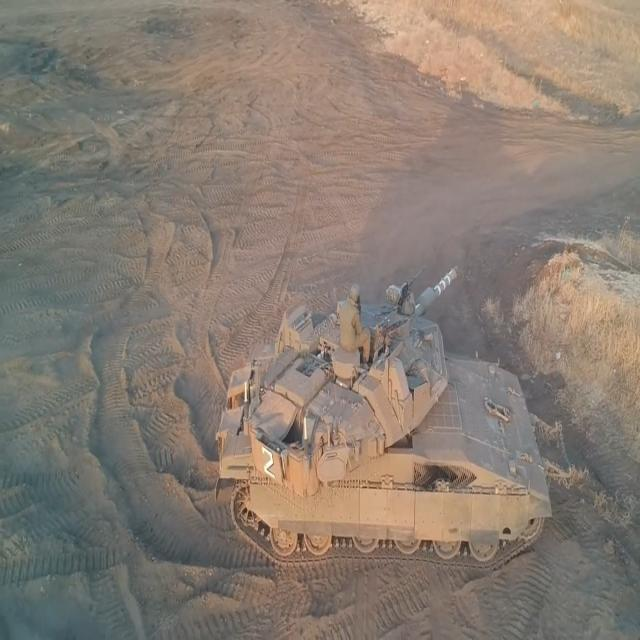tank: (212, 255, 559, 582)
